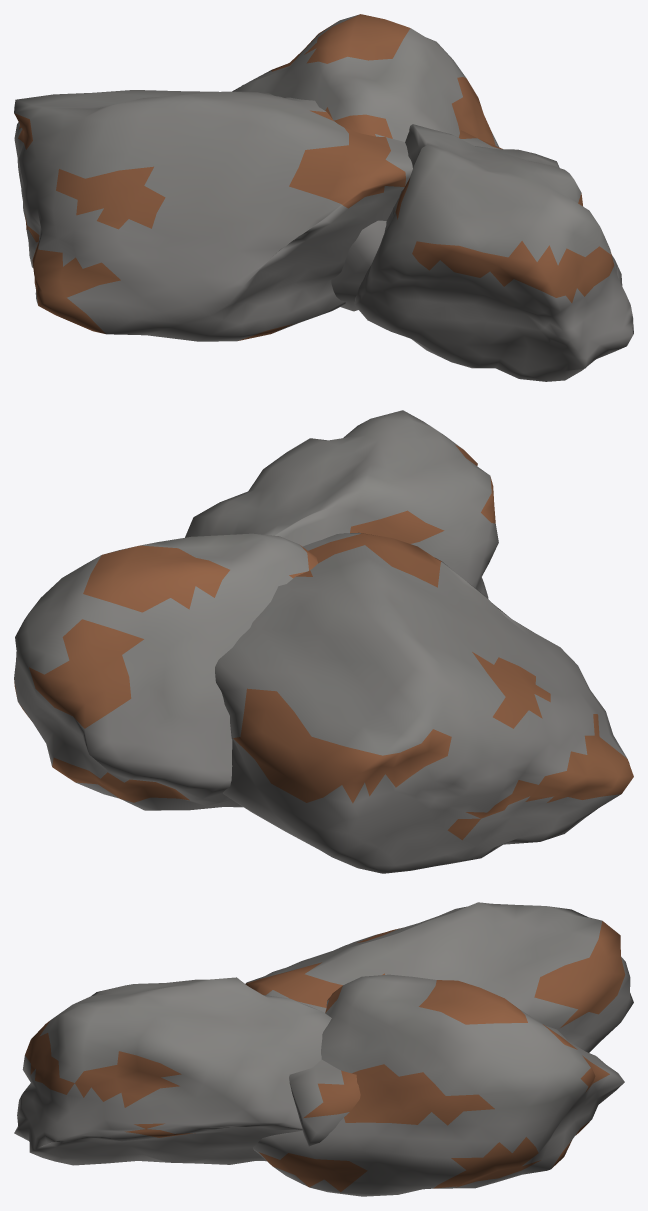
File: outcrop_iron.glb
The picture shows the model from 3 angles, top to bottom: view 1: azimuth 30°, elevation 25°; view 2: azimuth 150°, elevation 25°; view 3: azimuth 270°, elevation 25°; orthographic projection. The views are drawn at different scales.
Visible parts, largest first — view 1: outcrop_iron; view 2: outcrop_iron; view 3: outcrop_iron.
Part boxes in pixels (left/top/right/bottom): outcrop_iron: left=14, top=14, right=633, bottom=381; outcrop_iron: left=14, top=410, right=633, bottom=873; outcrop_iron: left=14, top=902, right=633, bottom=1196.
Size of the model in its own units: 4.51 by 1.64 by 5.36.
